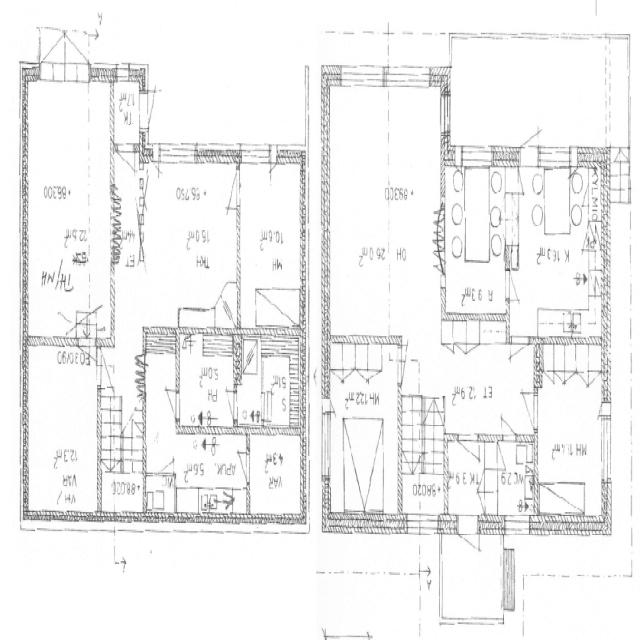door: (518, 127, 541, 169), (457, 514, 479, 548), (508, 330, 530, 363), (457, 432, 480, 462), (522, 387, 538, 430), (115, 139, 137, 170), (398, 350, 414, 391), (535, 388, 552, 426), (235, 448, 251, 484), (500, 416, 517, 445), (224, 386, 238, 419)
window: (339, 65, 385, 91), (387, 66, 431, 92), (154, 141, 196, 168), (600, 412, 614, 487), (320, 402, 332, 483), (462, 144, 492, 171), (240, 142, 272, 166), (540, 151, 573, 174), (504, 512, 531, 536), (417, 517, 438, 536), (115, 65, 131, 82)
zone: (326, 82, 444, 343), (22, 76, 112, 346), (506, 166, 604, 341), (142, 160, 239, 331), (325, 339, 399, 522), (24, 346, 100, 517), (536, 346, 607, 523), (238, 161, 304, 333), (442, 166, 509, 320), (175, 433, 249, 517), (248, 429, 304, 527), (177, 344, 237, 432), (143, 348, 178, 476), (111, 154, 147, 270), (260, 344, 302, 432), (445, 437, 486, 519), (494, 438, 535, 517), (400, 465, 444, 526), (99, 465, 146, 520), (111, 79, 143, 147), (238, 335, 262, 425), (235, 378, 265, 428), (145, 472, 175, 521), (241, 336, 259, 376)
